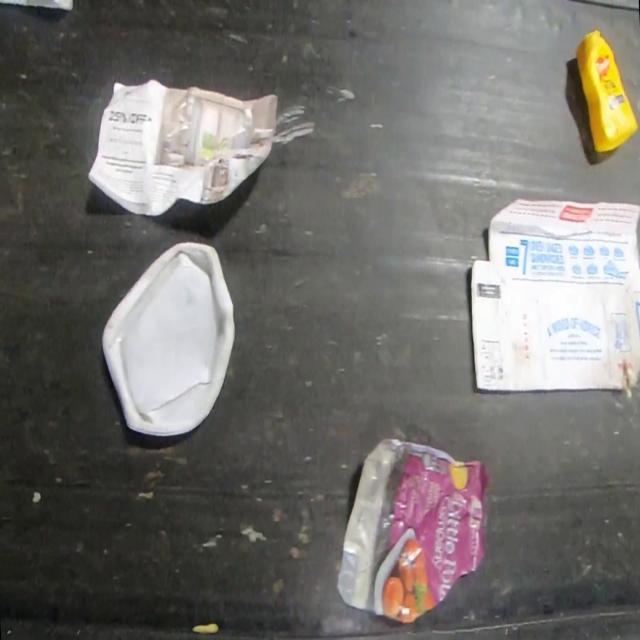cardboard: (470, 197, 640, 392)
rigid_plastic: (101, 242, 236, 437), (574, 29, 637, 155)
soft_plastic: (334, 438, 488, 623)
